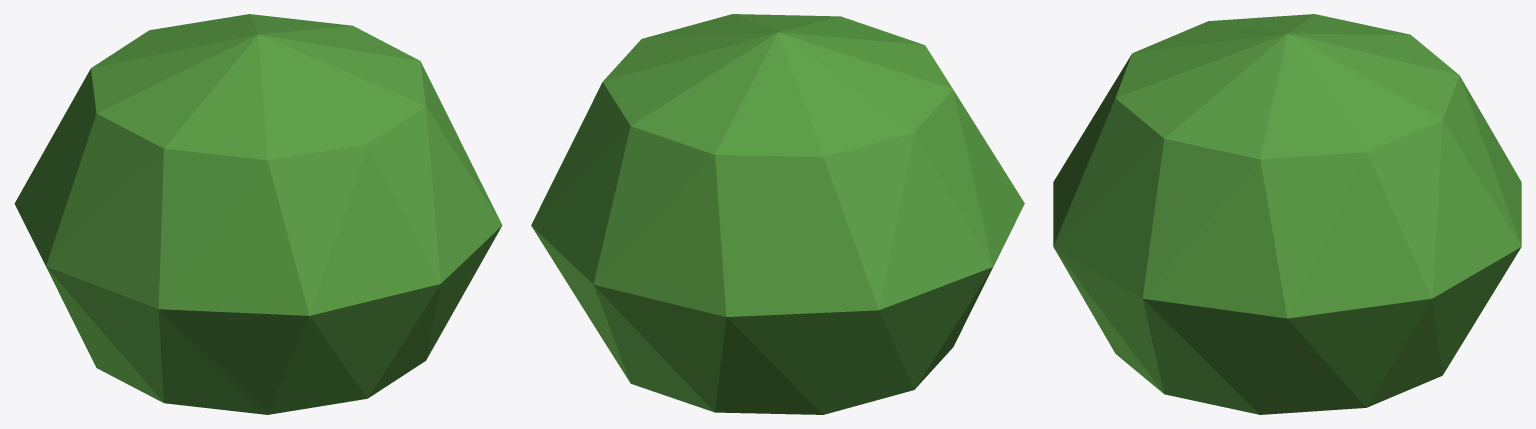
File: drop_cabbage.glb
3 views of the same model, side by side, from view 1: azimuth 30°, elevation 25°; view 2: azimuth 150°, elevation 25°; view 3: azimuth 270°, elevation 25° (orthographic).
Visible parts, largest first — view 1: drop_cabbage; view 2: drop_cabbage; view 3: drop_cabbage.
Part boxes in pixels (bbox=[...]): drop_cabbage: bbox=[14, 14, 502, 414]; drop_cabbage: bbox=[531, 14, 1024, 414]; drop_cabbage: bbox=[1053, 14, 1521, 414].
Bounding box in the file's own units: 0.21 × 0.17 × 0.1997.
